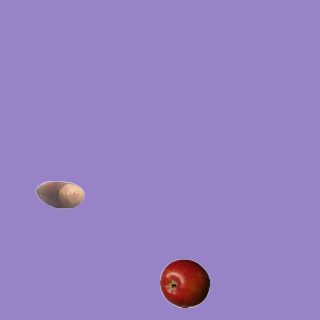Apple Braeburn: (159, 258, 209, 308)
Hazelnut: (34, 169, 84, 219)
